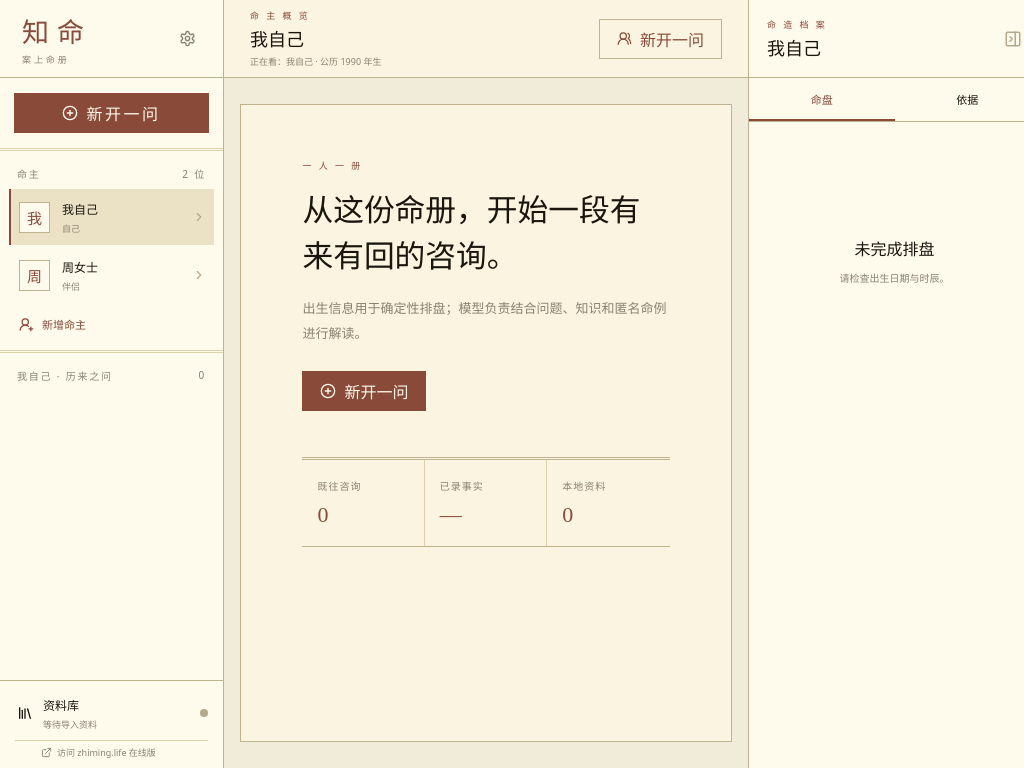
Scenario: App › creates a consultation with a secondary person
The width and height of the screenshot is (1024, 768).
Click the button "新开一问" below "案上命册".
click(112, 113)  # box [14,93,209,133]
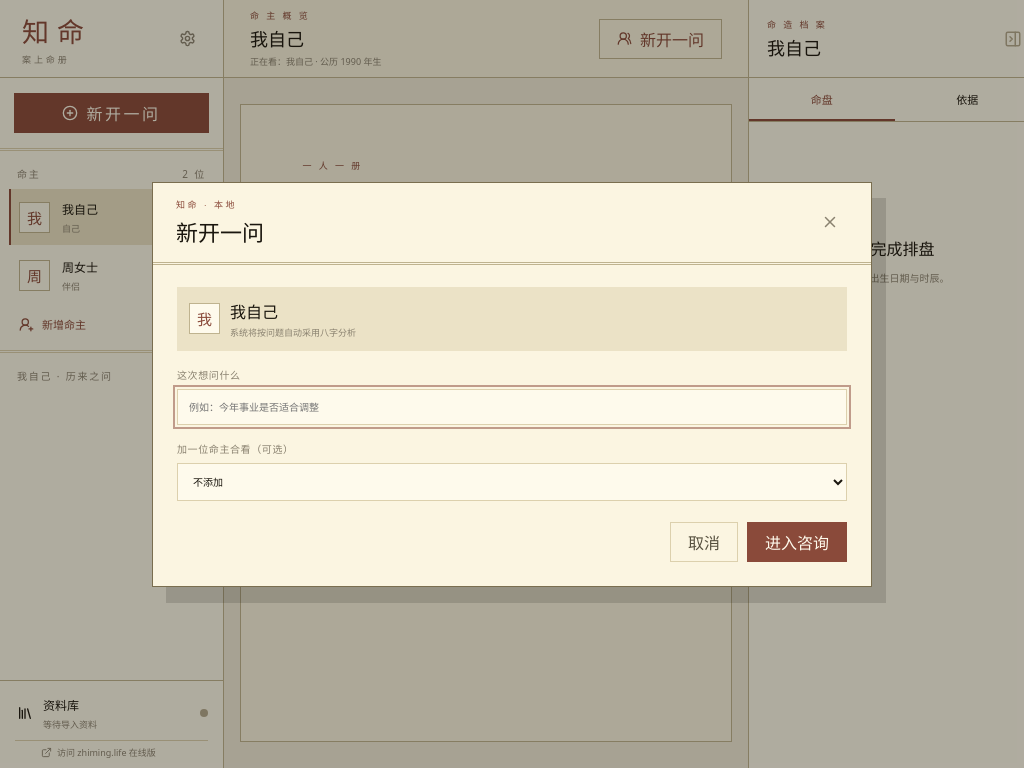
Type "事业调整与伴侣共同规划" into the field labelled "这次想问什么".
click(512, 406); type("事业调整与伴侣共同规划")  # box [177,388,847,424]
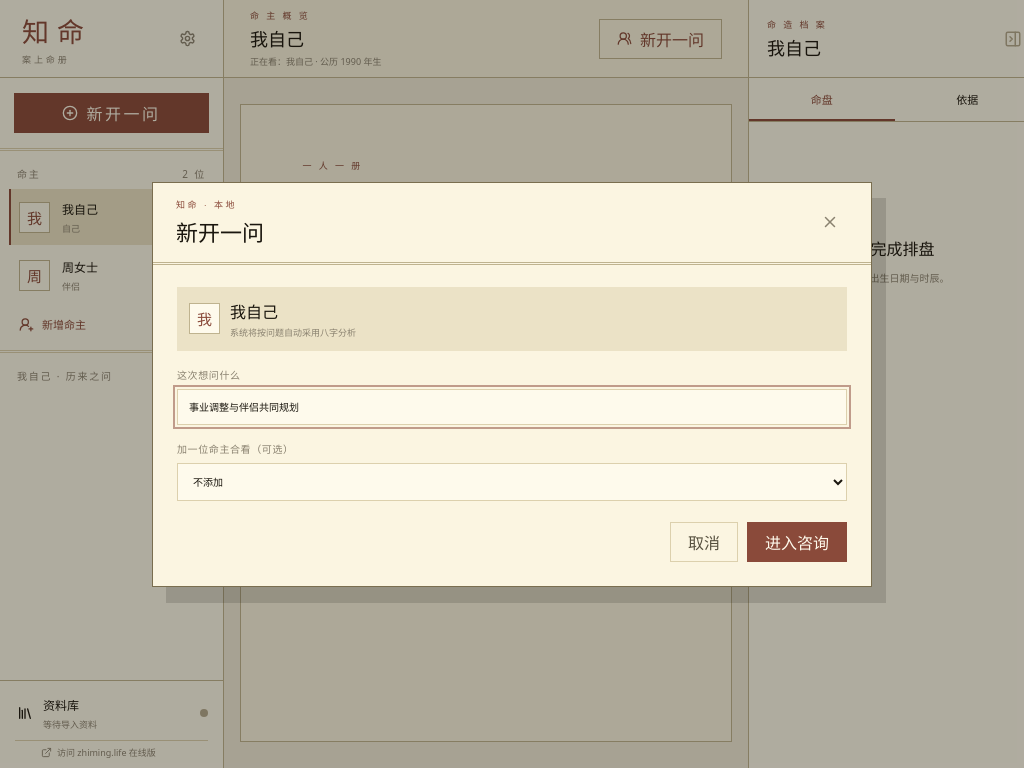
Select "周女士" in the dropdown labelled "加一位命主合看（可选）" at (512, 482), box [177,462,847,500]
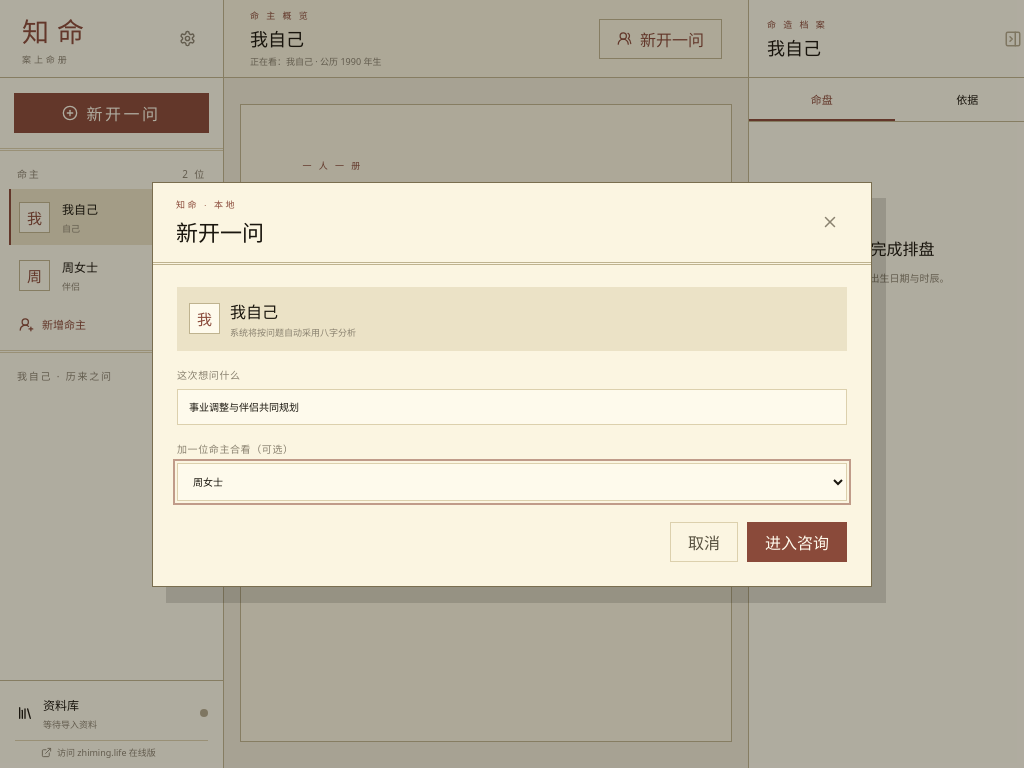
Click the button "进入咨询".
click(797, 542)  # box [747,522,847,562]
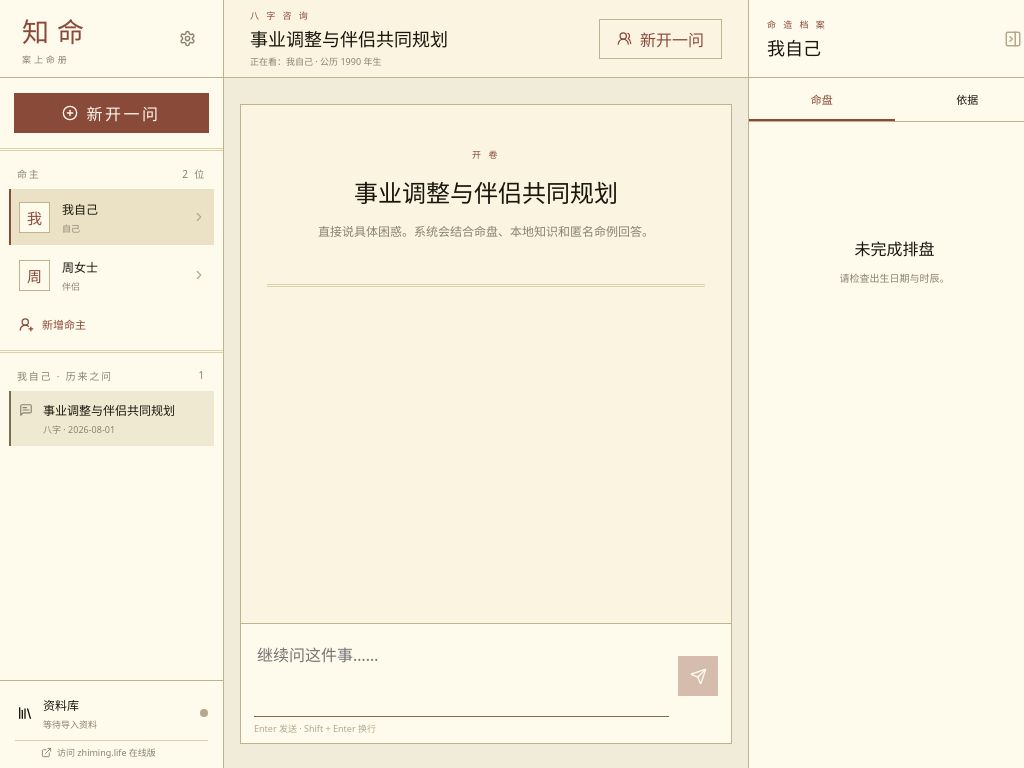
Expected: the text "直接说具体困惑。系统会结合命盘、本地知识和匿名命例回答。" is shown, [318,223,654,240]
